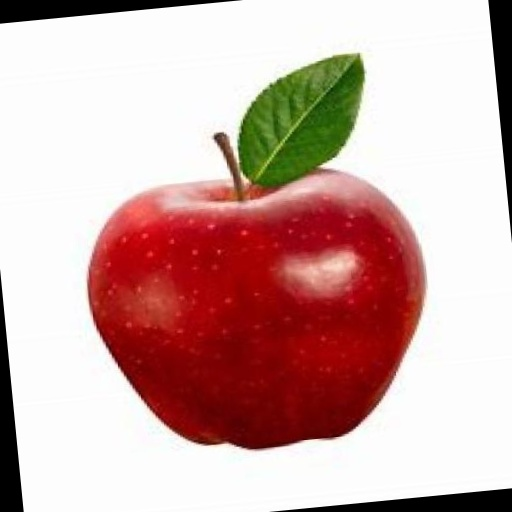fruit: (343, 117, 501, 501), (352, 131, 492, 487)
